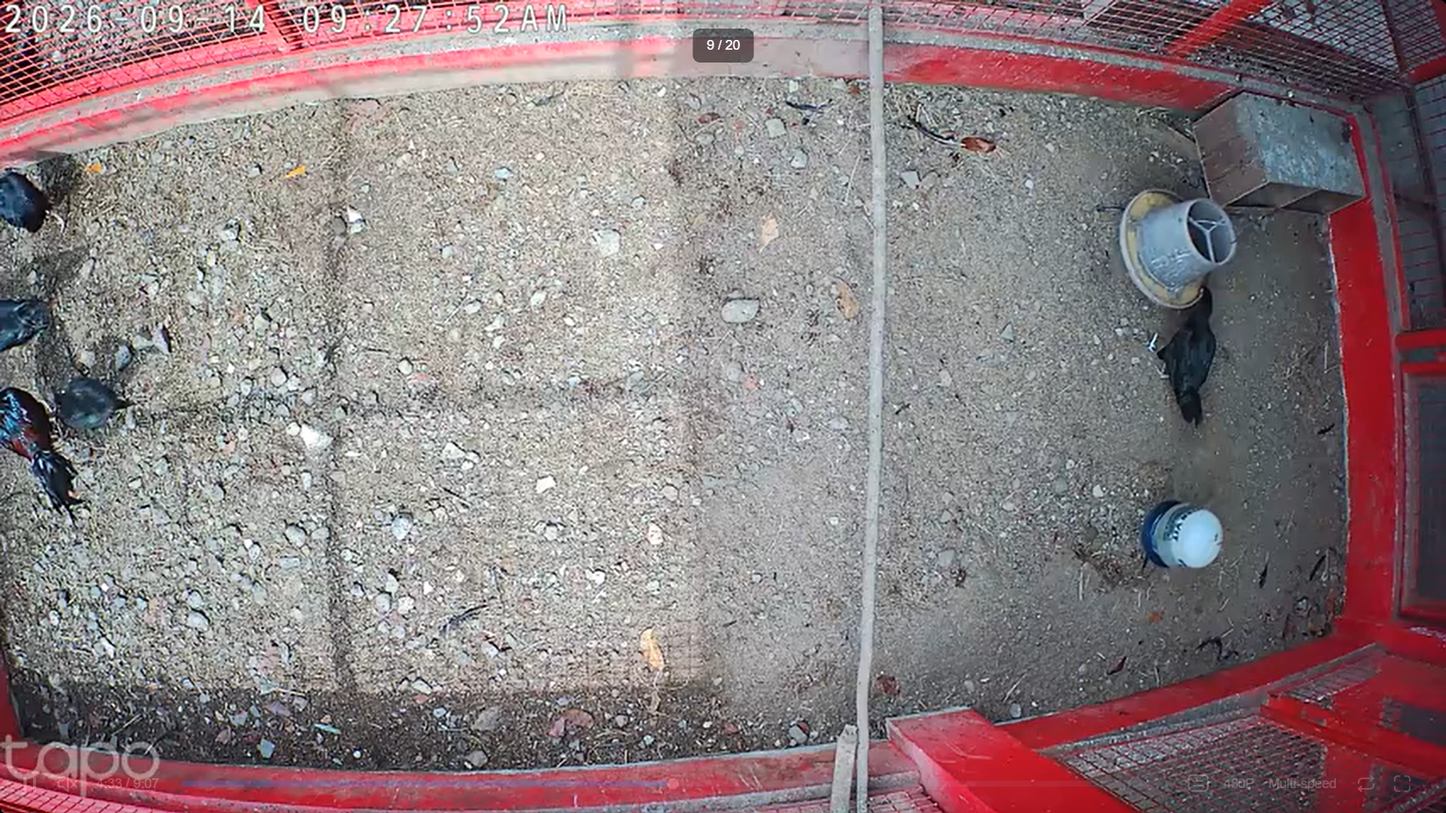Chicken: (1148, 283, 1217, 432)
